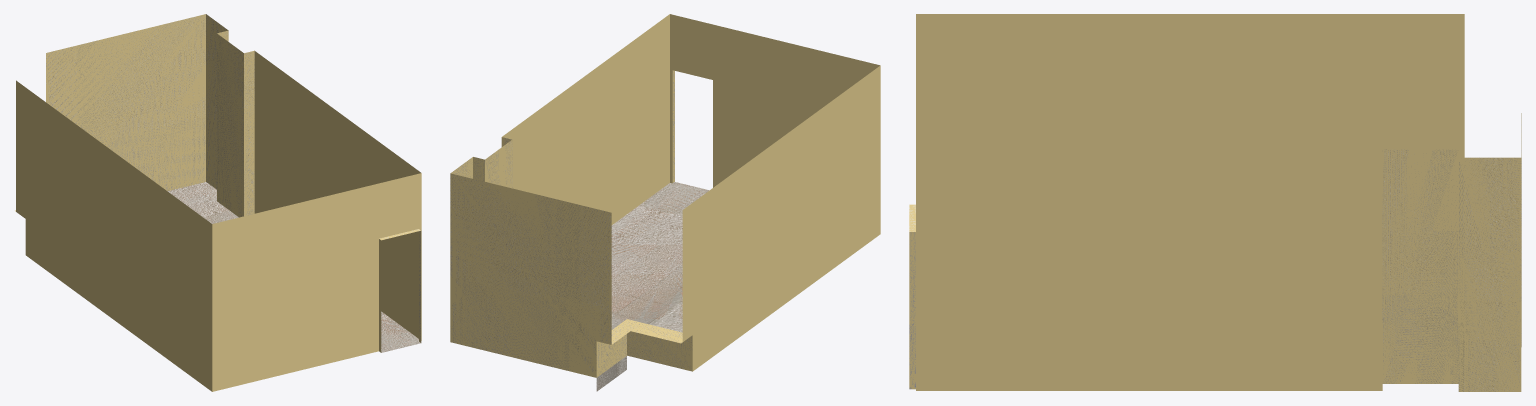
The model's file is DES027.obj.
3 renders of one model, left to right at view 1: azimuth 30°, elevation 25°; view 2: azimuth 150°, elevation 25°; view 3: azimuth 270°, elevation 25°, orthographic. The views are drawn at different scales.
Visible parts, largest first — view 1: Mesh1 DES027 Model; view 2: Mesh1 DES027 Model; view 3: Mesh1 DES027 Model.
Part boxes in pixels (bbox=[...]): Mesh1 DES027 Model: bbox=[15, 14, 421, 391]; Mesh1 DES027 Model: bbox=[450, 14, 880, 391]; Mesh1 DES027 Model: bbox=[909, 14, 1521, 391].
Bounding box in the file's own units: 3.94 × 3.25 × 7.1.
5 materials, 2 textured.
